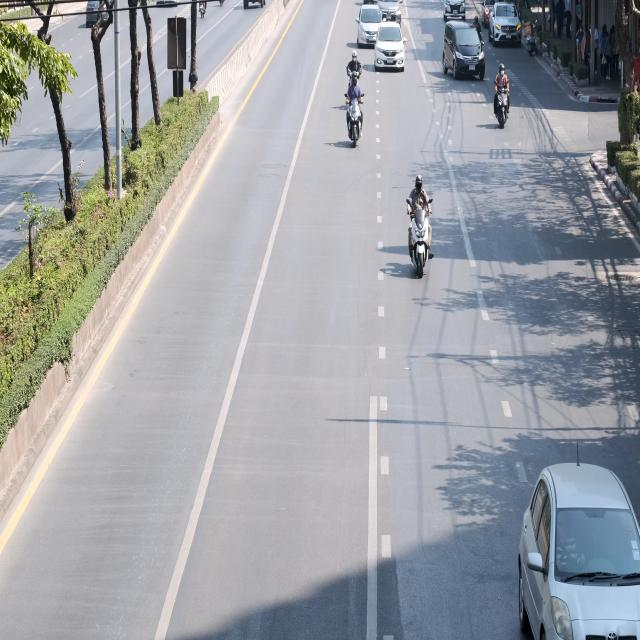cars: (510, 452, 640, 640), (439, 18, 486, 88), (373, 18, 407, 73), (489, 0, 523, 44), (356, 4, 382, 50), (84, 0, 115, 30), (373, 0, 403, 28), (440, 0, 470, 23), (479, 0, 503, 28)
motorcycle: (403, 174, 436, 284), (343, 65, 367, 154), (490, 58, 514, 134), (346, 46, 366, 110), (522, 14, 546, 64)
